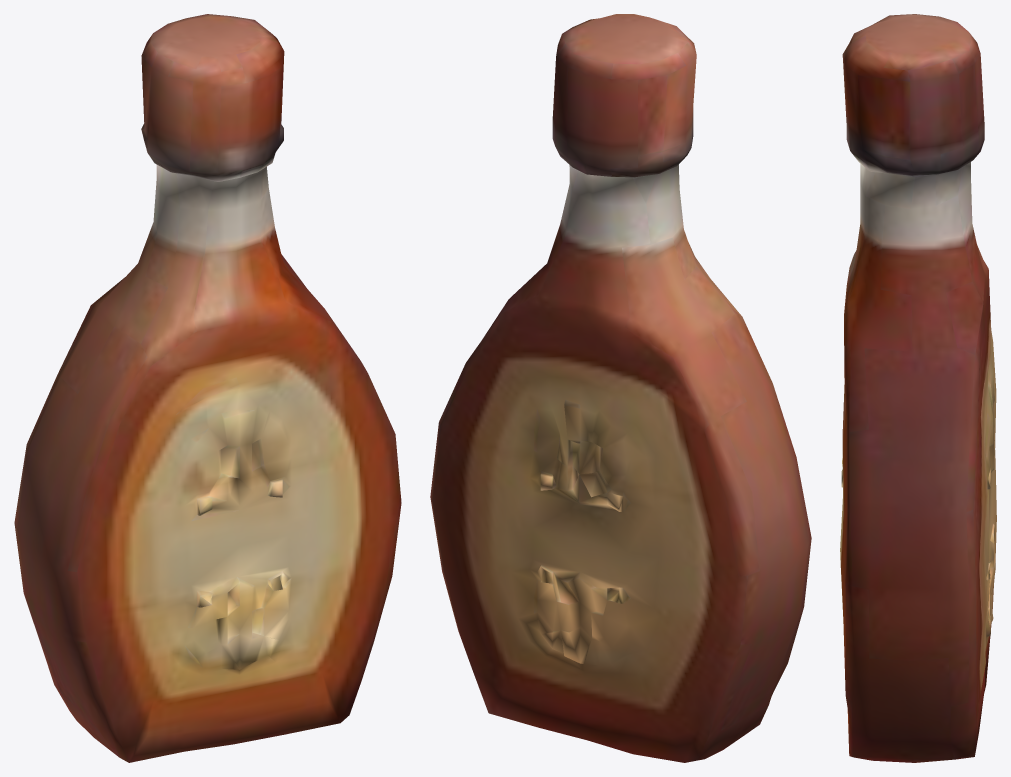
File: maple-syrup.glb
The picture shows the model from 3 angles, left to right: view 1: azimuth 30°, elevation 25°; view 2: azimuth 150°, elevation 25°; view 3: azimuth 270°, elevation 25°; orthographic projection.
Parts seen in each view (by area): view 1: Maple Syrup; view 2: Maple Syrup; view 3: Maple Syrup.
Part boxes in pixels (x1,y1,x2,y2): Maple Syrup: (14, 14, 401, 762); Maple Syrup: (430, 14, 811, 762); Maple Syrup: (840, 14, 996, 762).
Bounding box in the file's own units: 1.24 × 2.43 × 0.5082.
Materials: 1 (1 with a texture image).
